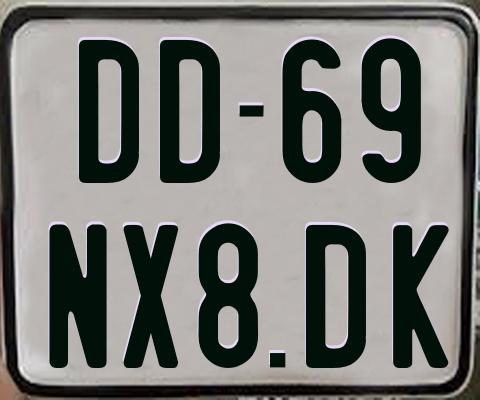6: (279, 38, 344, 188)
8: (198, 220, 260, 366)
9: (360, 37, 420, 188)
D: (303, 224, 367, 373), (79, 37, 142, 181), (160, 40, 221, 186)
K: (392, 224, 449, 368)
N: (49, 222, 113, 370)
X: (121, 223, 179, 372)
